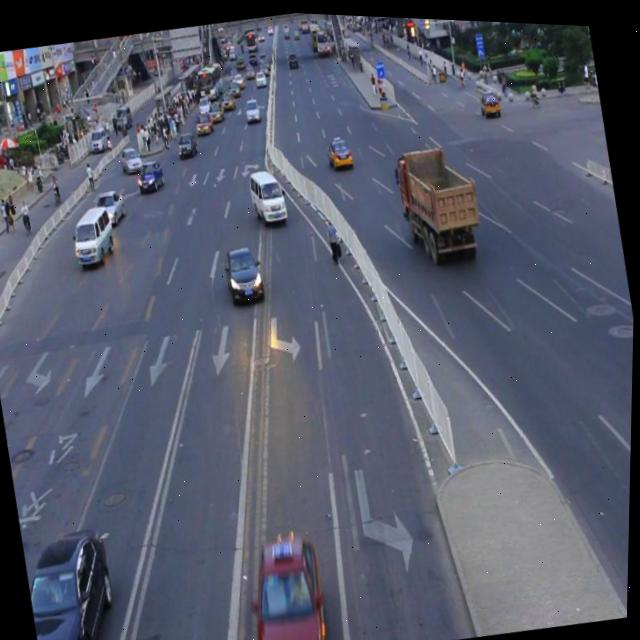bus: (390, 136, 486, 265)
car: (21, 519, 132, 640), (239, 526, 335, 640), (222, 240, 268, 305), (92, 185, 129, 228)
truck: (69, 200, 120, 268), (247, 163, 290, 223)
